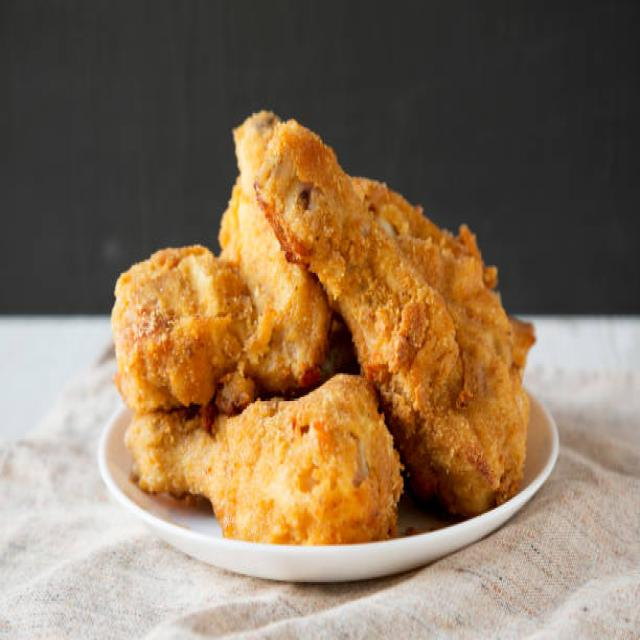Frango: (108, 107, 538, 548)
